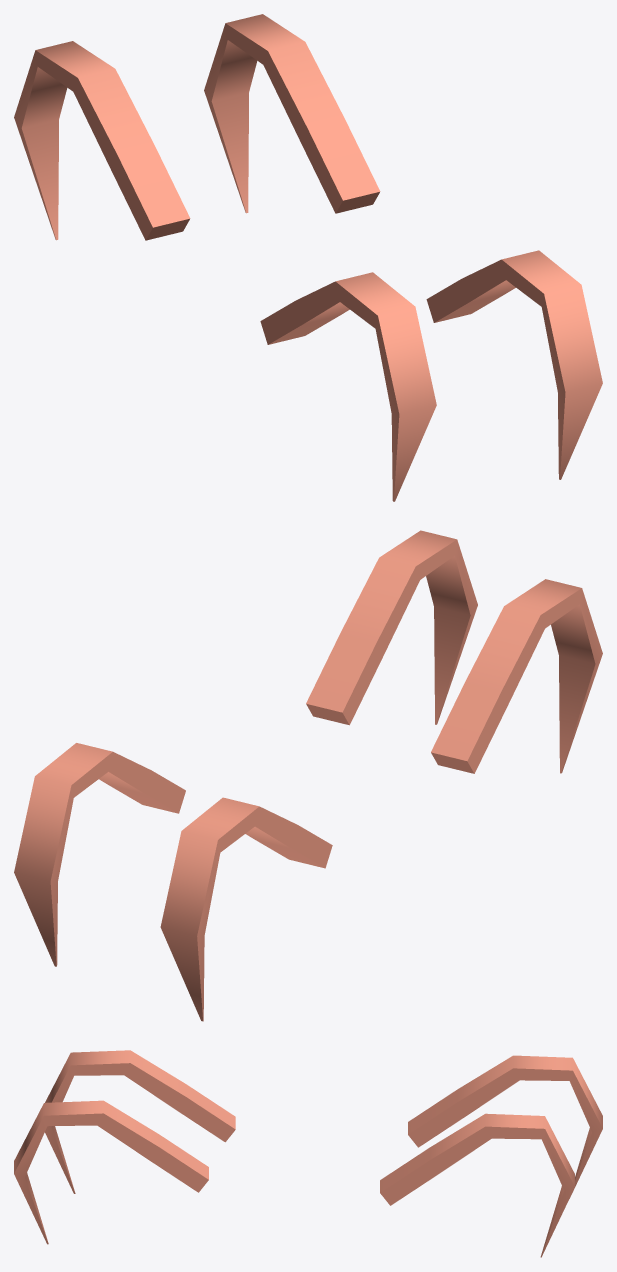
The model's file is Monster_Spider_2_Legs.FBX.
3 renders of one model, top to bottom at view 1: azimuth 30°, elevation 25°; view 2: azimuth 150°, elevation 25°; view 3: azimuth 270°, elevation 25°, orthographic. The views are drawn at different scales.
Visible parts, largest first — view 1: Box016, Box018, Box013, Box015; view 2: Box013, Box015, Box016, Box018; view 3: Box015, Box016, Box018, Box013.
Part boxes in pixels (x1,y1,x2,y2): Box016: (204,14,380,213); Box018: (14,41,190,240); Box013: (260,272,436,501); Box015: (426,250,602,479); Box013: (431,579,602,773); Box015: (306,530,477,725); Box016: (14,743,185,966); Box018: (160,797,332,1021); Box015: (14,1100,208,1244); Box016: (380,1113,574,1257); Box018: (408,1055,602,1198); Box013: (45,1050,235,1193).
Size of the model in its own units: 6.62 by 5.55 by 21.58.
